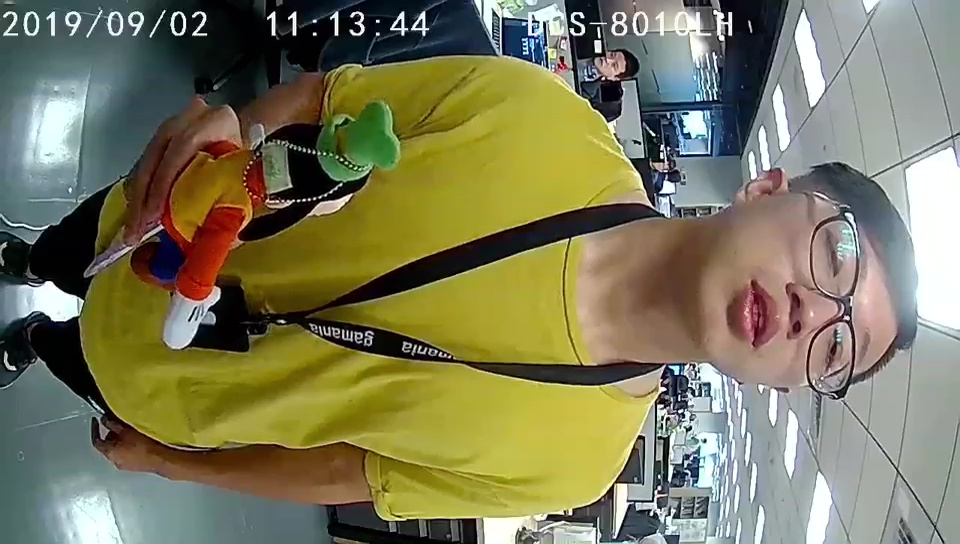goofy: (165, 104, 399, 347)
